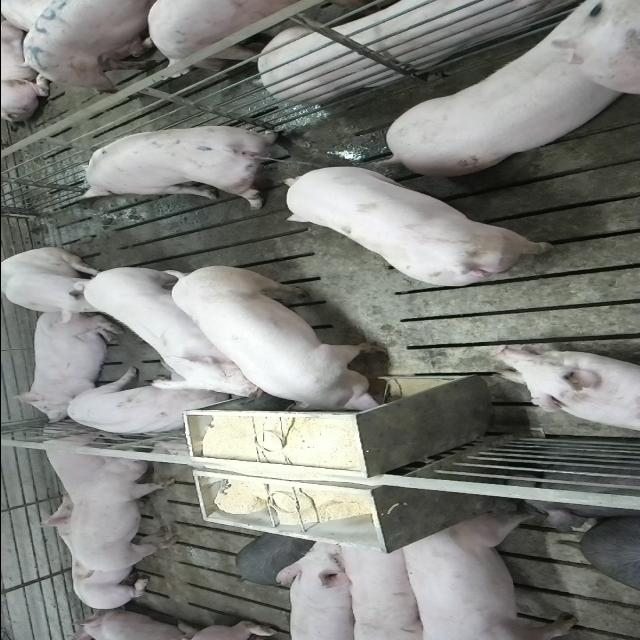Feeding: (162, 269, 390, 422)
Lateral_lying: (138, 0, 588, 101)
Sitting: (62, 370, 222, 437), (2, 247, 128, 321)
Standing: (374, 6, 634, 180), (282, 168, 558, 292), (76, 263, 268, 398), (392, 508, 584, 639), (74, 123, 296, 208), (22, 0, 176, 92), (70, 448, 178, 576), (330, 539, 428, 639), (278, 538, 358, 640)
Sternal_lying: (29, 495, 156, 609), (485, 347, 640, 437), (12, 312, 129, 424), (36, 428, 124, 502)
